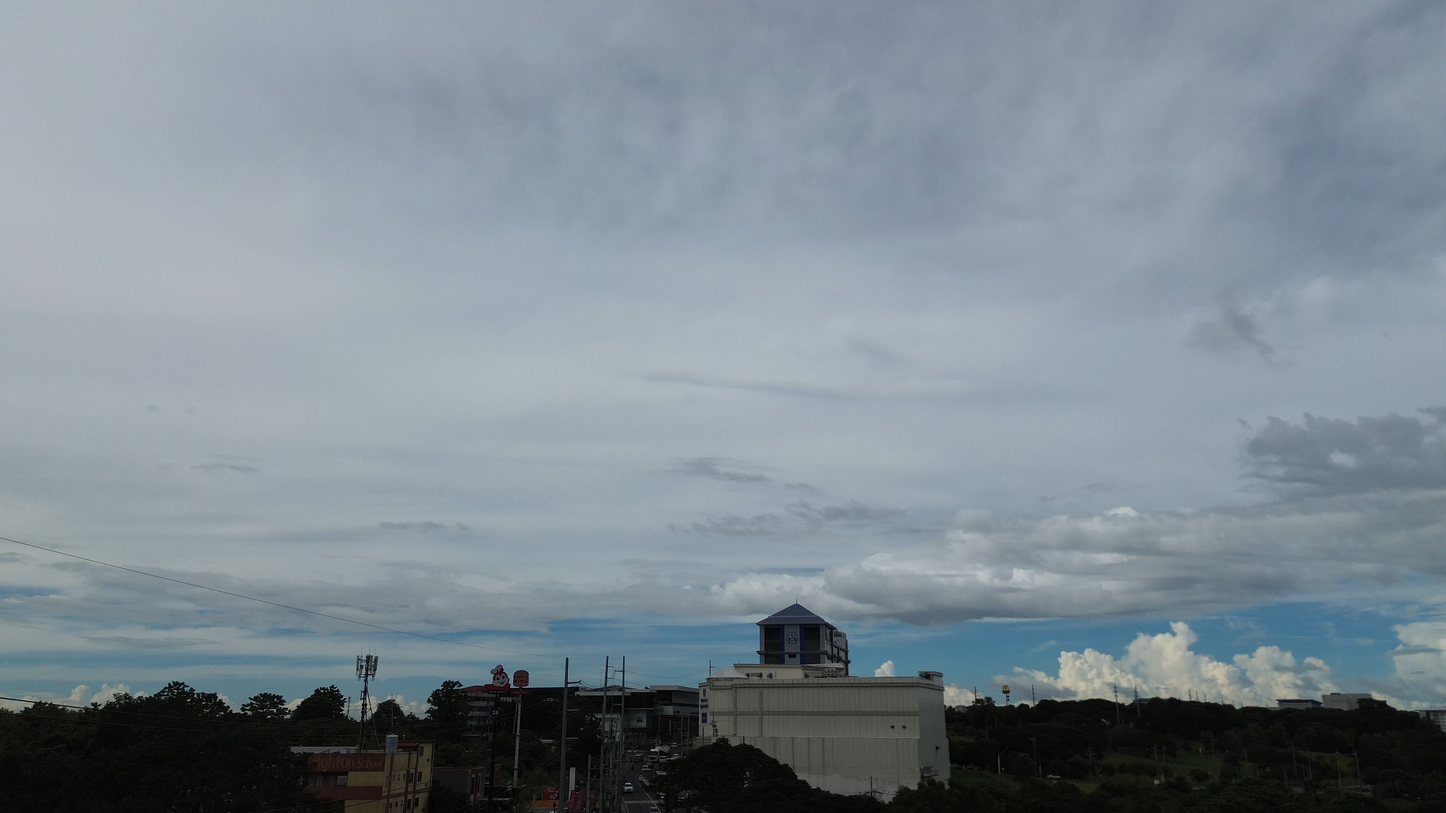car: (623, 782, 635, 793)
